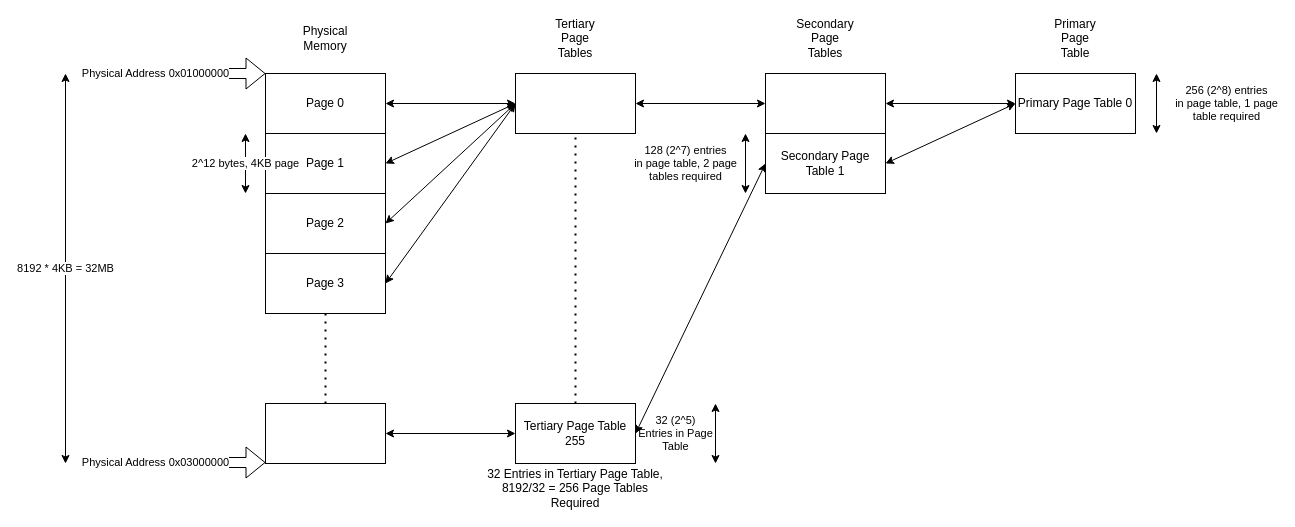
Some shapes in this 1295 by 527 pixel diagram are drawn without their labels. The centre of each missing label's shape, as x and y in pixels:
"Page 8191" goes at (325,433).
"Secondary Page Table 0" goes at (825,103).
"Tertiary Page Table 0" goes at (575,103).
